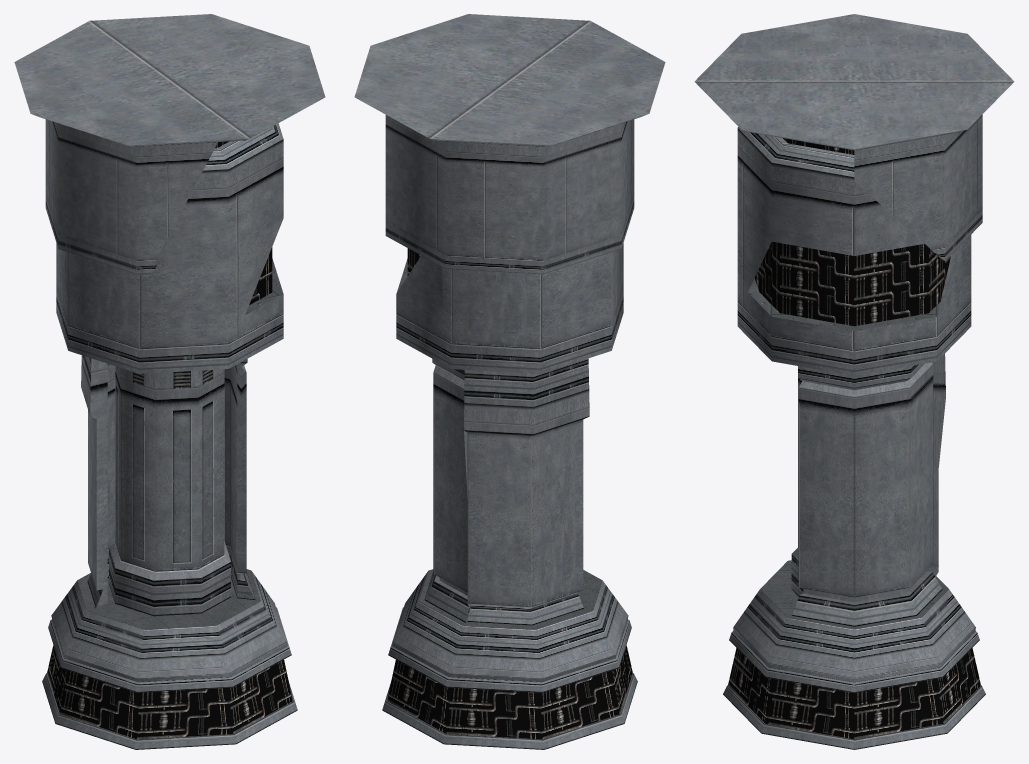
File: poi_all_impl_bunker_pillar_s03_l1.fbx
3 renders of one model, left to right at view 1: azimuth 30°, elevation 25°; view 2: azimuth 150°, elevation 25°; view 3: azimuth 270°, elevation 25°, orthographic.
Visible parts, largest first — view 1: mesh_node; view 2: mesh_node; view 3: mesh_node.
Boxes of the visible parts, x1=… form: mesh_node: x1=14, y1=14, x2=325, y2=749; mesh_node: x1=354, y1=14, x2=665, y2=749; mesh_node: x1=694, y1=14, x2=1014, y2=749.
Size of the model in its own units: 2.51 by 5.3 by 2.51.
